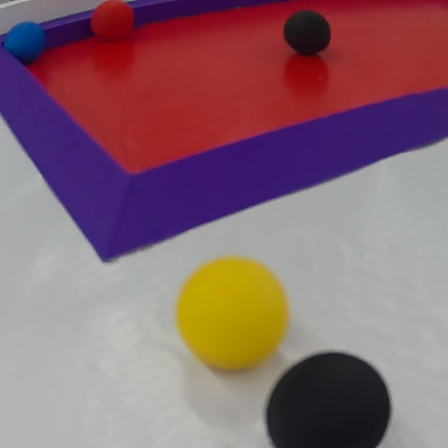black: (261, 343, 391, 448), (281, 7, 335, 58)
blue: (4, 16, 48, 70)
red: (85, 0, 142, 46)
red_aim: (4, 0, 448, 262)
yellow: (169, 251, 291, 377)
